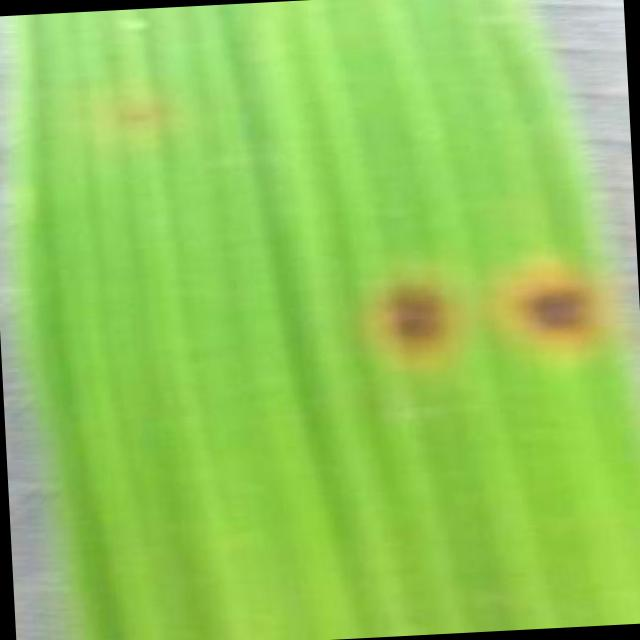Rice_Brownspot: (490, 240, 618, 376), (347, 252, 472, 378), (96, 80, 174, 140), (88, 38, 124, 67)
